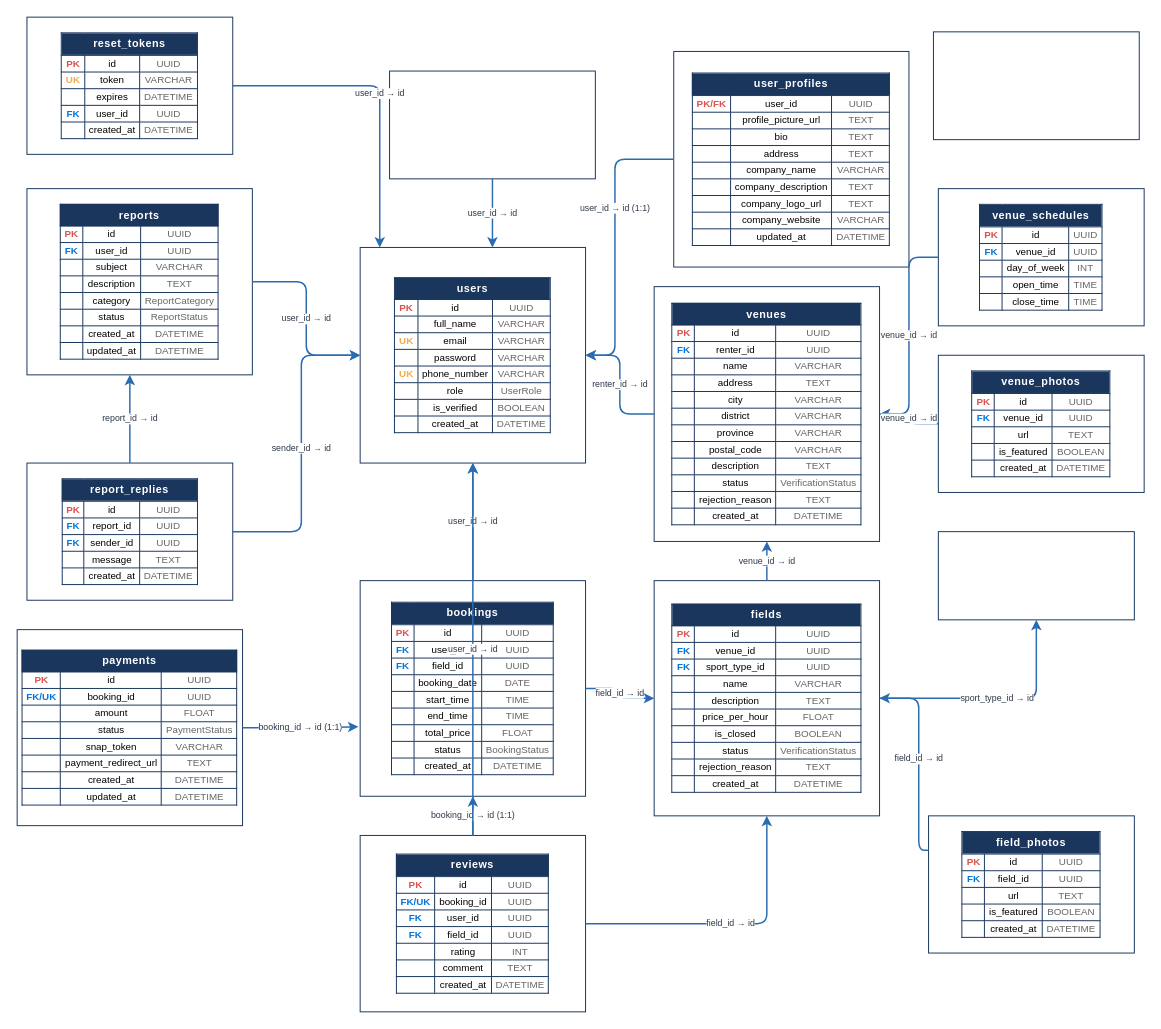
The diagram is 1161 pixels wide and 1029 high, and some of its shapes have lost their labels. Here are the shapes that lost their labels. From the top down, the centre of each, then its label:
At (1035,85): "verification_tokens identifier VARCHAR UK token VARCHAR expires DATETIME".
At (492,124): "sessions PK id VARCHAR FK user_id UUID expires_at DATETIME".
At (1035,575): "sport_types PK id UUID UK name VARCHAR".
